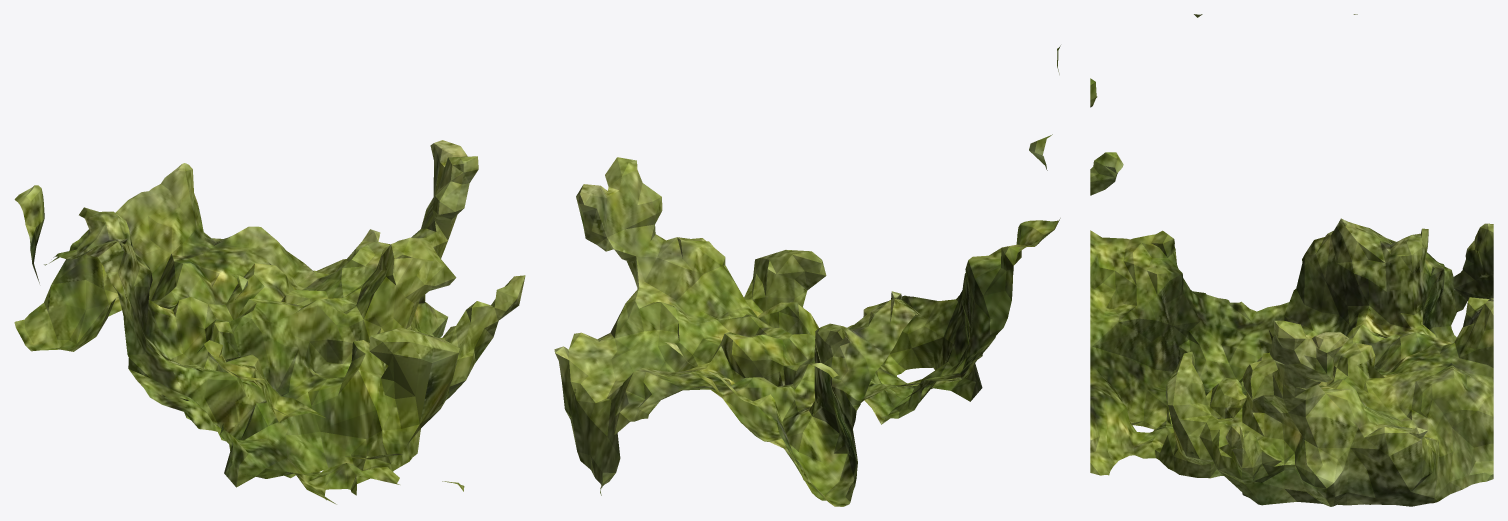
3 views of the same model, side by side, from view 1: azimuth 30°, elevation 25°; view 2: azimuth 150°, elevation 25°; view 3: azimuth 270°, elevation 25° (orthographic). The views are drawn at different scales.
Bounding box in the file's own units: 2.66 × 2.95 × 2.95.
Materials: 4 (4 with a texture image).
